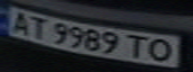8: (81, 26, 103, 53)
9: (45, 19, 72, 46), (100, 29, 124, 56), (66, 24, 87, 49)
A: (3, 9, 36, 35)
O: (145, 36, 181, 64)
T: (124, 33, 151, 60), (24, 14, 51, 39)
